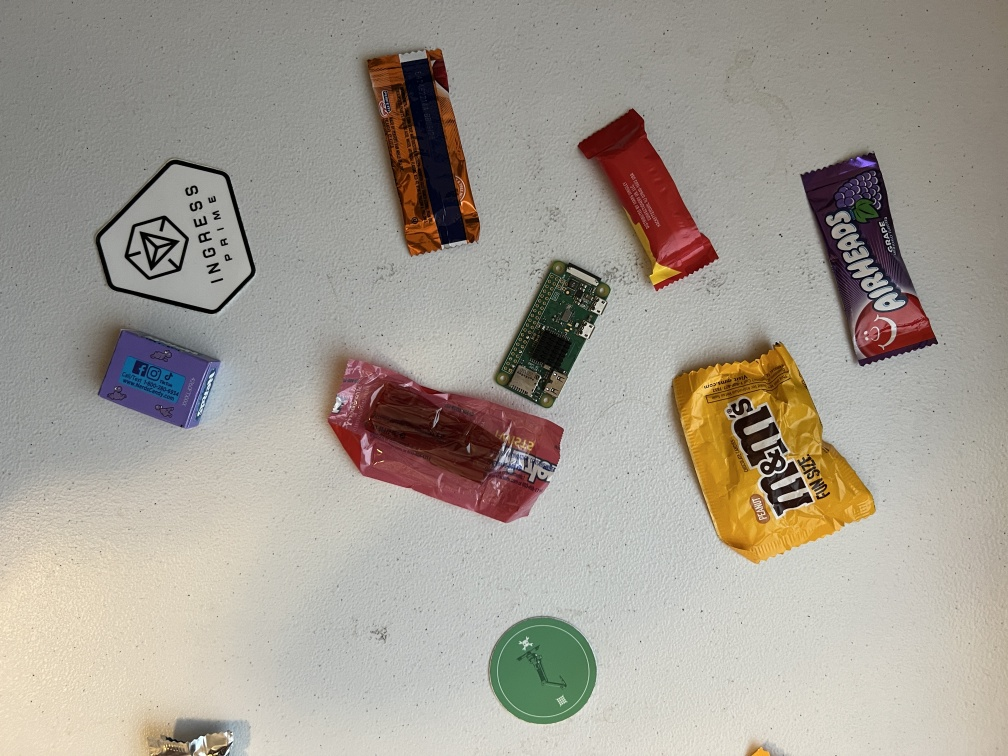MMs_regular: (648, 346, 892, 583)
airheads: (788, 134, 964, 384), (352, 38, 483, 272)
nerds: (62, 315, 258, 459)
starbust: (564, 95, 730, 310)
twizzlers: (319, 351, 584, 542)
